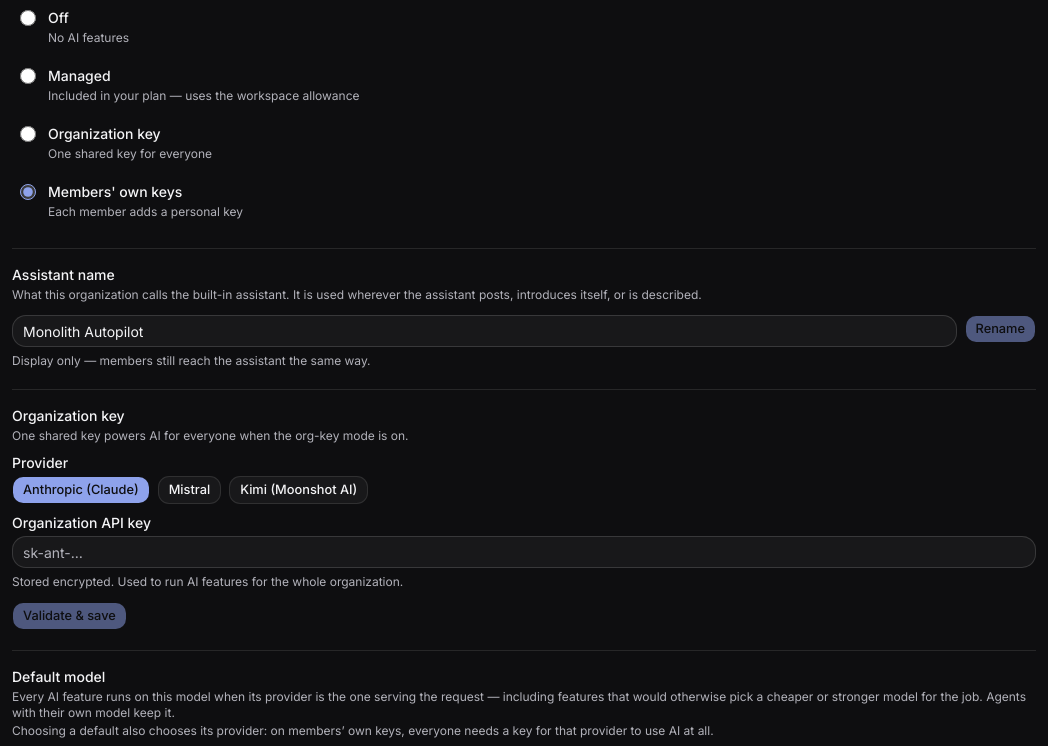
Test: OrgAiSettingsForm · assistant name › saves the trimmed name once, and confirms it
The width and height of the screenshot is (1048, 746).
Step 1. Replace the text in the field named "assistant name" with "  Ada  " → (484, 331), box [12,315,956,347]
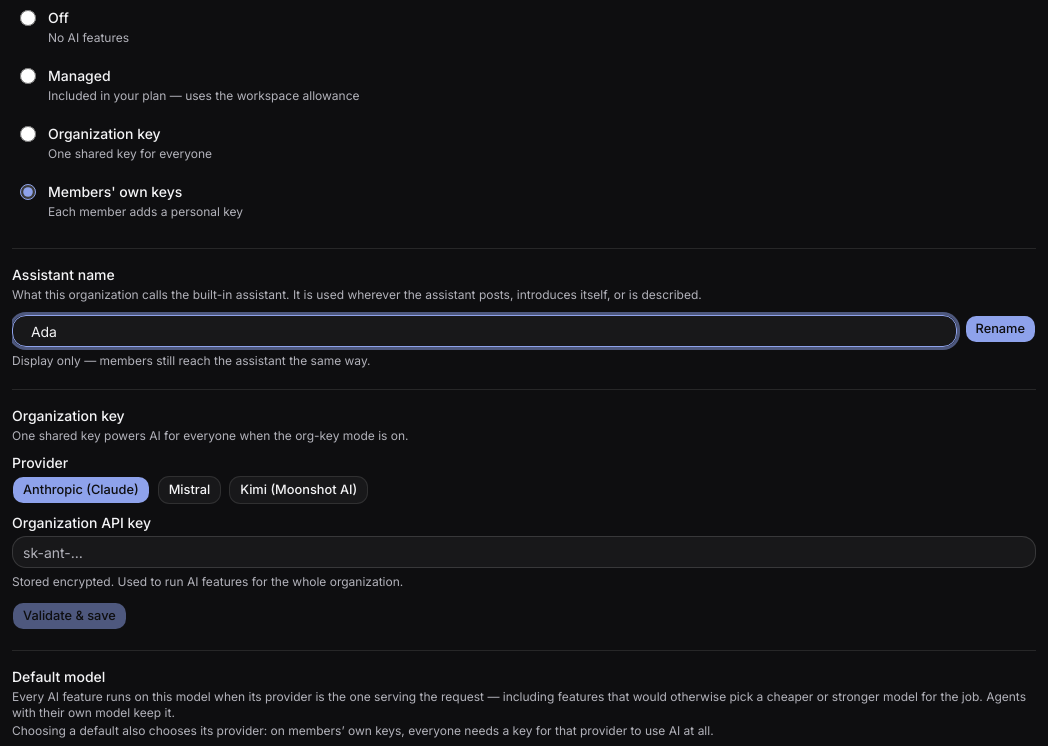
Step 2. Click the button "Rename" → (1000, 329), box [964,315,1036,343]
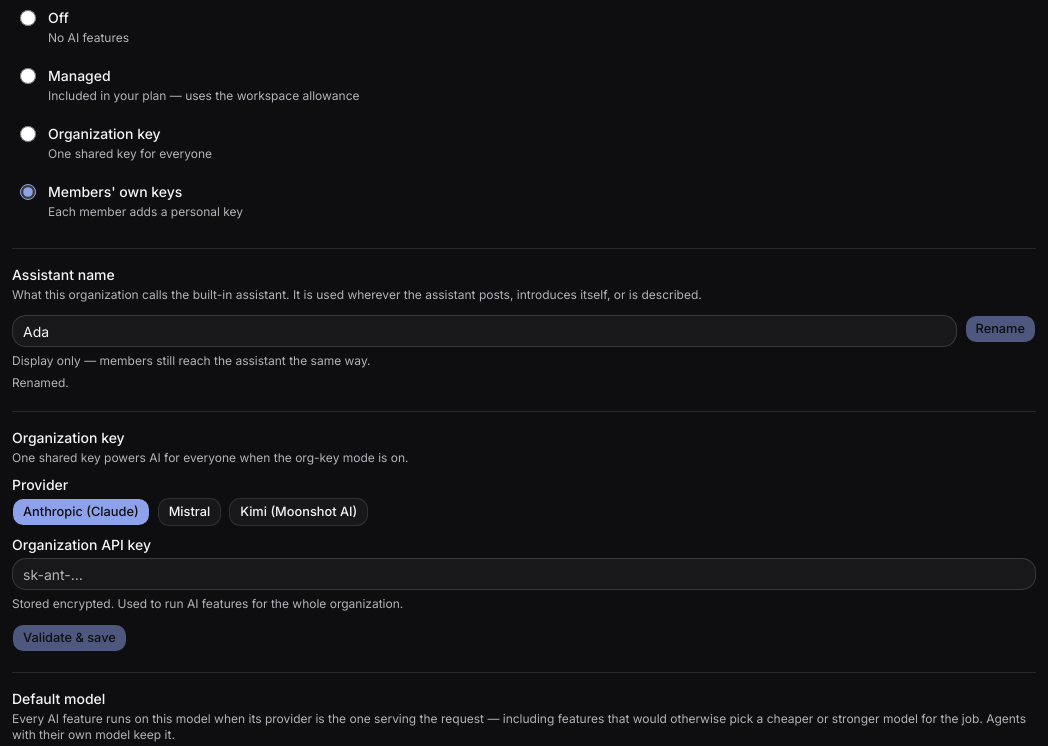
Result: the text "Renamed." is shown at [12,375,69,390]
